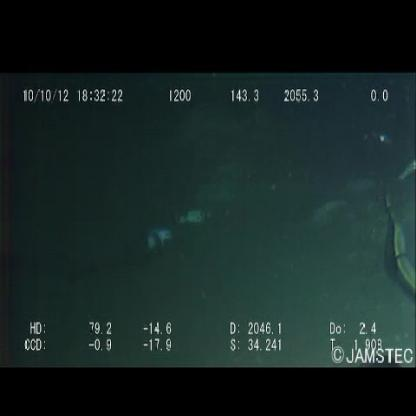Rov: (362, 122, 416, 303)
Rác: (122, 187, 221, 265)
